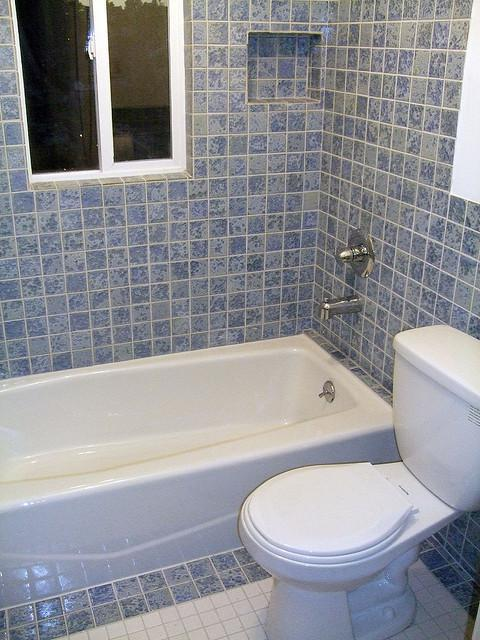Sanitario: (237, 320, 479, 639)
